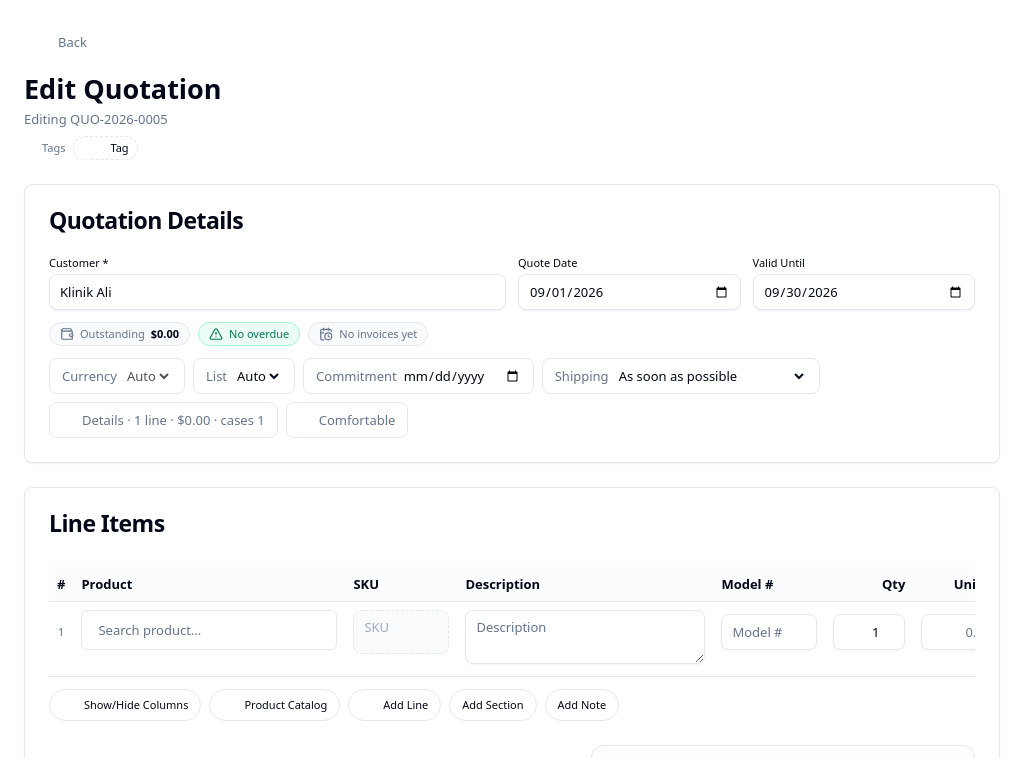
#316 quotation form — Case Information follows the field profile › edit: keeps existing case data visible even when the profile disables the group
Click the button titled "References, contacts, addresses, logistics and terms" at (163, 420), box [49, 402, 278, 438]
(page scrolled)
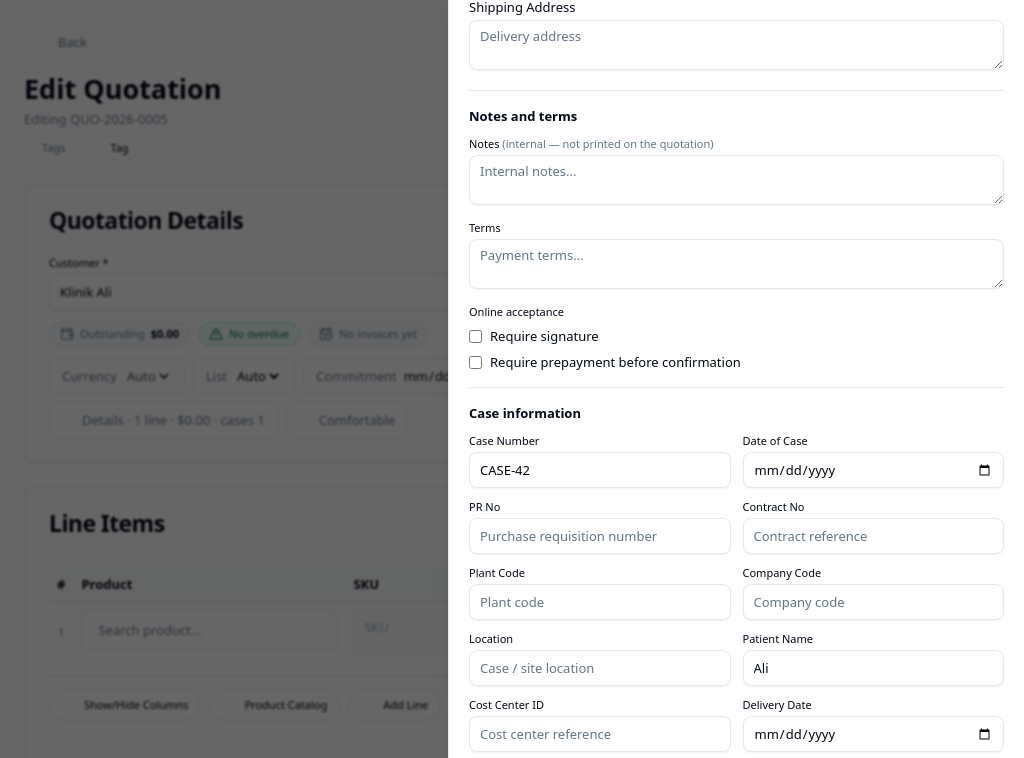
Expected: the text box with placeholder "Internal notes..." is shown, [469, 155, 1004, 205]
Expected: the heading "Case information" is shown, [469, 404, 581, 422]
Expected: the field showing "CASE-42" below "Case Number" is shown, [469, 452, 730, 488]
